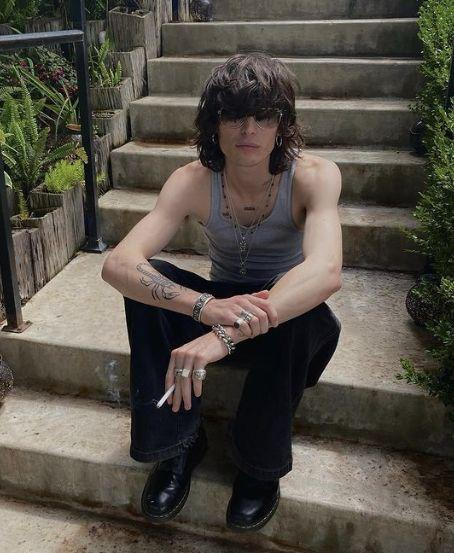cigarette: (156, 383, 176, 409)
